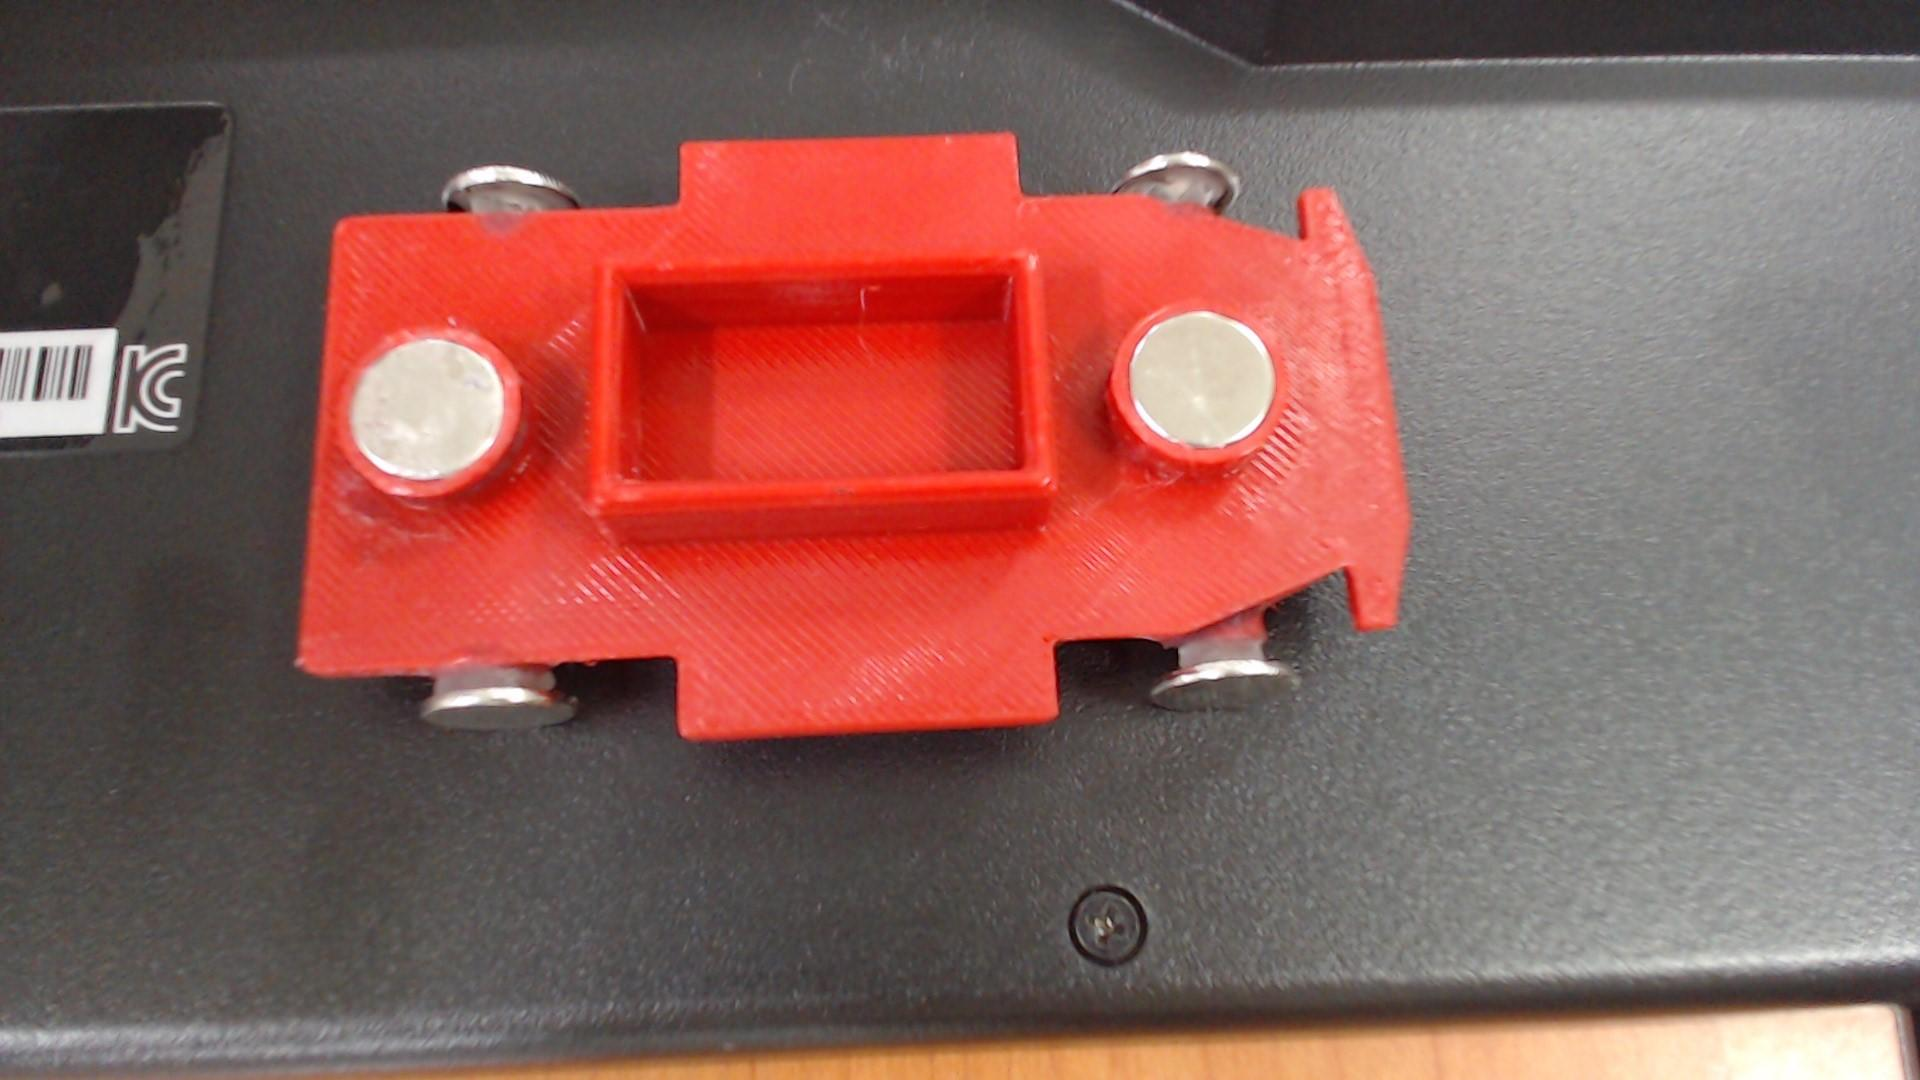lower_ok: (574, 240, 1084, 564)
